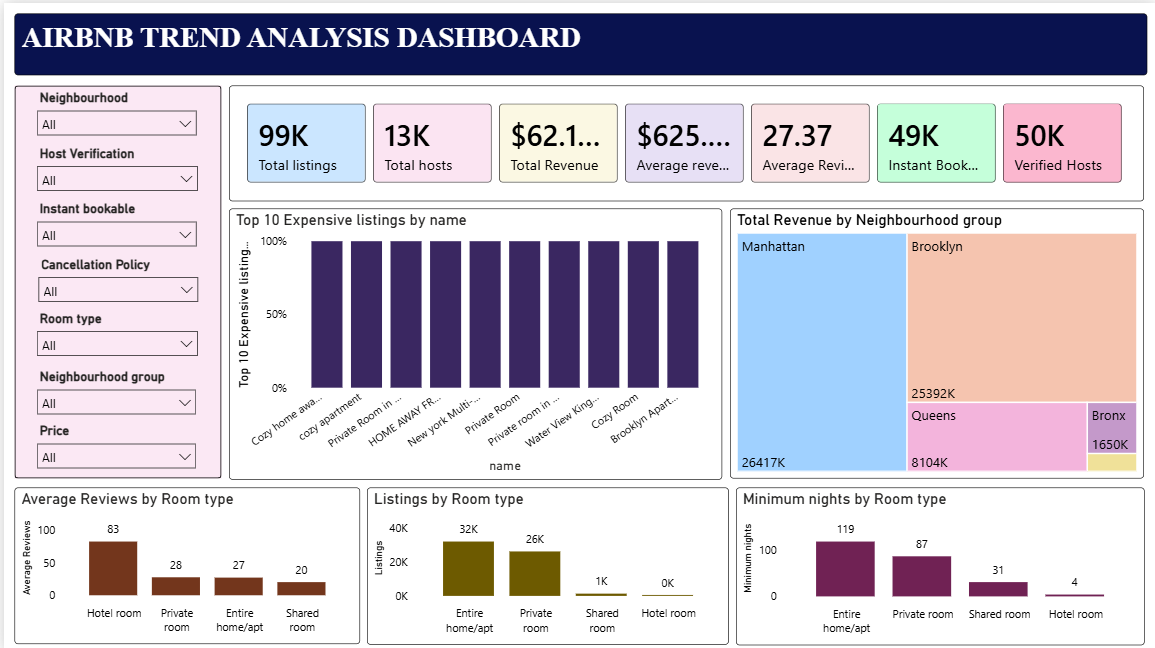

The page's visual inventory and layout, read from the dashboard file:
{"tool":"powerbi","page":{"name":"Page 2","canvas":[1280,720],"ordinal":1},"visuals":[{"type":"shape","box":[11.7,91.7,230,436.7],"z":0},{"type":"group","id":"g1","title":"Group 1","box":[26.7,91.7,198.3,428.3],"z":1000},{"type":"textbox","box":[11.4,11.4,1258.6,68.6],"z":2000},{"type":"slicer","fields":{"Values":["airbnb_trends_analysis airbnb.instant_bookable"]},"box":[27.2,214.6,197.1,62.9],"z":2000,"group":"g1"},{"type":"cardVisual","fields":{"Data":["airbnb_trends_analysis airbnb.Total listings","airbnb_trends_analysis airbnb.Total hosts","airbnb_trends_analysis airbnb.Total Revenue","airbnb_trends_analysis airbnb.Average revenue","airbnb_trends_analysis airbnb.Average Reviews","airbnb_trends_analysis airbnb.Instant Bookables","airbnb_trends_analysis airbnb.Verified Hosts"]},"box":[250,91.7,1016.7,128.3],"z":3000},{"type":"slicer","fields":{"Values":["airbnb_trends_analysis airbnb.neighbourhood_group"]},"box":[26.7,402.4,196.7,60],"z":3000,"group":"g1"},{"type":"hundredPercentStackedColumnChart","fields":{"Category":["airbnb_trends_analysis airbnb.name"],"Y":["airbnb_trends_analysis airbnb.Average revenue"]},"box":[250,227.8,547.8,301.1],"z":4000},{"type":"treemap","fields":{"Values":["airbnb_trends_analysis airbnb.Total Revenue"],"Group":["airbnb_trends_analysis airbnb.neighbourhood_group"]},"box":[806,228,460,300],"z":5000},{"type":"slicer","fields":{"Values":["airbnb_trends_analysis airbnb.cancellation_policy"]},"box":[28.6,277.4,197.1,60],"z":6000,"group":"g1"},{"type":"columnChart","fields":{"Category":["airbnb_trends_analysis airbnb.room_type"],"Y":["airbnb_trends_analysis airbnb.Average Reviews"]},"box":[11.2,537.5,383.8,173.8],"z":6000},{"type":"columnChart","fields":{"Category":["airbnb_trends_analysis airbnb.room_type"],"Y":["Count(airbnb_trends_analysis airbnb.name)"]},"box":[403.3,537.8,402.2,174.4],"z":7000},{"type":"slicer","fields":{"Values":["airbnb_trends_analysis airbnb.room_type"]},"box":[26.7,337.4,198.3,65],"z":8000,"group":"g1"},{"type":"columnChart","fields":{"Y":["Count(airbnb_trends_analysis airbnb.minimum_nights)"],"Category":["airbnb_trends_analysis airbnb.room_type"]},"box":[812.5,537.5,453.8,175],"z":8000},{"type":"slicer","fields":{"Values":["airbnb_trends_analysis airbnb.host_identity_verified"]},"box":[27.2,153.1,198.6,61.4],"z":9000,"group":"g1"},{"type":"slicer","fields":{"Values":["airbnb_trends_analysis airbnb.price"]},"box":[26.7,462.4,196.7,58.3],"z":10000,"group":"g1"},{"type":"slicer","fields":{"Values":["airbnb_trends_analysis airbnb.neighbourhood"]},"box":[27.2,91.7,197.1,61.4],"z":11000,"group":"g1"}]}

Visuals, with their boxes in screenshot pixels (x1, y1, x2, y2), scaled from the page's 1280x720 canvas onto the 1155x648 screenshot:
shape: [11,83,218,476]
"Group 1" group: [24,83,203,468]
textbox: [10,10,1146,72]
slicer - airbnb_trends_analysis airbnb.instant_bookable: [25,193,202,250]
cardVisual - airbnb_trends_analysis airbnb.Total listings x airbnb_trends_analysis airbnb.Total hosts: [226,83,1143,198]
slicer - airbnb_trends_analysis airbnb.neighbourhood_group: [24,362,202,416]
hundredPercentStackedColumnChart - airbnb_trends_analysis airbnb.name x airbnb_trends_analysis airbnb.Average revenue: [226,205,720,476]
treemap - airbnb_trends_analysis airbnb.Total Revenue x airbnb_trends_analysis airbnb.neighbourhood_group: [727,205,1142,475]
slicer - airbnb_trends_analysis airbnb.cancellation_policy: [26,250,204,304]
columnChart - airbnb_trends_analysis airbnb.room_type x airbnb_trends_analysis airbnb.Average Reviews: [10,484,356,640]
columnChart - airbnb_trends_analysis airbnb.room_type x Count(airbnb_trends_analysis airbnb.name): [364,484,727,641]
slicer - airbnb_trends_analysis airbnb.room_type: [24,304,203,362]
columnChart - Count(airbnb_trends_analysis airbnb.minimum_nights) x airbnb_trends_analysis airbnb.room_type: [733,484,1143,641]
slicer - airbnb_trends_analysis airbnb.host_identity_verified: [25,138,204,193]
slicer - airbnb_trends_analysis airbnb.price: [24,416,202,469]
slicer - airbnb_trends_analysis airbnb.neighbourhood: [25,83,202,138]
